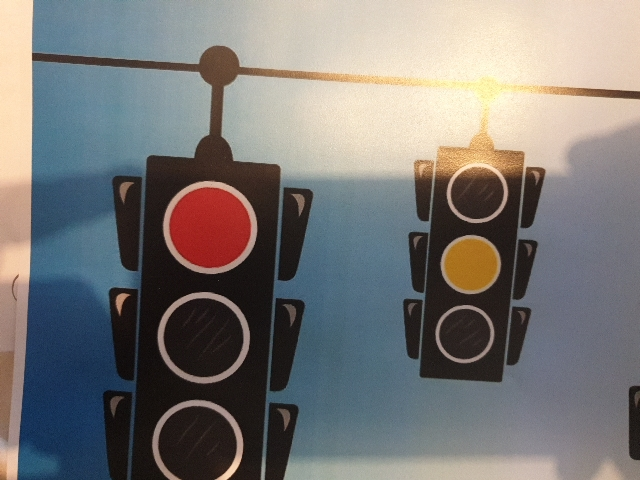amber: (443, 161, 497, 363)
red: (155, 177, 241, 466)
